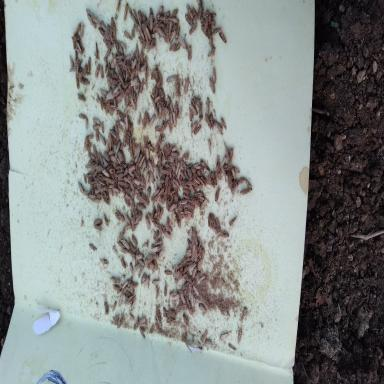pbw: (155, 4, 165, 18), (178, 37, 188, 50), (184, 12, 192, 28), (150, 64, 158, 80), (186, 4, 194, 20), (144, 26, 152, 42), (201, 158, 210, 172), (244, 176, 253, 190), (169, 26, 176, 44), (189, 102, 198, 116), (214, 184, 221, 202), (224, 142, 230, 162), (213, 120, 223, 132), (168, 112, 173, 136), (207, 46, 216, 59), (98, 132, 106, 146), (138, 34, 146, 48), (204, 112, 211, 128), (138, 154, 146, 168), (178, 289, 185, 305), (230, 213, 238, 227), (237, 188, 251, 196), (201, 328, 209, 342), (166, 74, 178, 83), (209, 77, 215, 95), (233, 177, 245, 186), (142, 24, 148, 42), (198, 1, 203, 22), (116, 209, 124, 222), (184, 77, 190, 94), (175, 81, 181, 98), (211, 213, 217, 230), (168, 288, 178, 298), (163, 230, 173, 240), (123, 2, 128, 22), (109, 128, 118, 139), (190, 96, 201, 105), (122, 277, 131, 288), (97, 26, 106, 37), (117, 65, 124, 79), (148, 113, 155, 127), (75, 41, 82, 55), (193, 284, 200, 298), (240, 306, 247, 320), (130, 296, 137, 310), (191, 170, 198, 184), (177, 104, 183, 120), (168, 22, 174, 38), (130, 58, 138, 70), (200, 198, 208, 210), (170, 7, 178, 19), (150, 206, 156, 222), (128, 242, 136, 254), (135, 212, 143, 224), (175, 22, 180, 41), (208, 175, 215, 188), (220, 155, 227, 168), (219, 31, 226, 44), (156, 228, 163, 241), (131, 233, 138, 246), (143, 13, 150, 26), (193, 124, 202, 134), (132, 7, 138, 22), (231, 164, 240, 174), (82, 61, 88, 76), (170, 15, 180, 24), (197, 273, 207, 282), (138, 26, 144, 41), (232, 182, 238, 197), (155, 139, 161, 154), (162, 225, 171, 235), (168, 202, 176, 213), (136, 142, 141, 159), (134, 315, 140, 329), (92, 143, 98, 157), (102, 212, 108, 226), (196, 115, 203, 127), (156, 314, 162, 328), (140, 175, 146, 189), (147, 141, 154, 153), (148, 37, 154, 51), (106, 88, 113, 100), (190, 120, 196, 134), (144, 274, 150, 288), (202, 298, 209, 310), (184, 168, 190, 182), (148, 159, 154, 173), (104, 48, 111, 60), (212, 171, 218, 185), (103, 150, 110, 162), (102, 193, 109, 205), (178, 285, 185, 297), (196, 258, 203, 270), (114, 154, 121, 166), (135, 252, 144, 261), (201, 175, 210, 184), (129, 282, 139, 290), (237, 328, 242, 344), (138, 9, 143, 25), (156, 77, 164, 87), (156, 306, 161, 322), (138, 315, 146, 325), (122, 239, 130, 249), (130, 76, 138, 86), (158, 27, 166, 37), (116, 110, 124, 120), (86, 56, 90, 76), (192, 162, 202, 170), (207, 138, 212, 154), (198, 303, 206, 313), (164, 162, 174, 170), (139, 326, 145, 339), (142, 193, 148, 206), (145, 216, 151, 229), (116, 0, 122, 13), (74, 23, 80, 36), (130, 98, 136, 111), (150, 94, 156, 107), (158, 160, 164, 173), (108, 31, 114, 44), (219, 332, 230, 339), (152, 229, 159, 240), (152, 240, 163, 247), (100, 20, 107, 31), (116, 120, 123, 131), (94, 40, 98, 59), (138, 264, 143, 279), (156, 165, 161, 180), (99, 64, 104, 79), (95, 62, 100, 77), (146, 186, 151, 201), (164, 28, 169, 43), (113, 168, 118, 183), (124, 63, 129, 78), (216, 216, 221, 231), (115, 140, 121, 152), (213, 26, 222, 34), (198, 102, 202, 120), (220, 117, 226, 129), (120, 228, 126, 240), (118, 43, 124, 55), (150, 12, 154, 30), (166, 95, 172, 107), (118, 150, 124, 162), (77, 181, 83, 193), (192, 7, 198, 19), (77, 93, 86, 101), (200, 248, 204, 266), (141, 240, 149, 249), (123, 192, 132, 200), (151, 244, 160, 252), (172, 110, 176, 128), (170, 110, 174, 128), (132, 178, 141, 186), (201, 24, 207, 36), (210, 225, 218, 234), (120, 257, 126, 269), (111, 58, 117, 70), (131, 13, 137, 25), (206, 96, 210, 114), (156, 188, 164, 197), (123, 30, 131, 39), (111, 300, 117, 312), (89, 16, 95, 28), (141, 272, 147, 284), (154, 69, 160, 81), (94, 186, 103, 194), (146, 20, 152, 32), (199, 294, 205, 306), (226, 170, 234, 179), (136, 166, 142, 178), (188, 262, 197, 270), (118, 294, 123, 308), (100, 258, 110, 265), (183, 208, 193, 215), (156, 21, 166, 28), (116, 284, 123, 294), (149, 262, 156, 272), (86, 158, 93, 168), (136, 202, 146, 209), (111, 174, 118, 184), (121, 150, 126, 164), (191, 244, 196, 258), (210, 112, 214, 129), (109, 133, 113, 150), (112, 24, 116, 41), (115, 39, 119, 56), (212, 67, 216, 84), (140, 77, 144, 94), (145, 110, 149, 127), (135, 247, 139, 264), (124, 213, 130, 224), (134, 262, 140, 273), (163, 119, 169, 130), (142, 135, 148, 146), (86, 9, 92, 20), (155, 321, 161, 332), (189, 238, 195, 249), (221, 164, 226, 177), (171, 212, 176, 225), (165, 198, 170, 211), (104, 302, 109, 315), (69, 55, 74, 68), (220, 231, 228, 239), (136, 194, 144, 202), (166, 215, 170, 231), (128, 170, 136, 178), (160, 118, 164, 134), (79, 188, 87, 196), (76, 73, 80, 89), (168, 188, 176, 196), (216, 154, 220, 170), (176, 160, 180, 176), (72, 34, 76, 50), (204, 16, 208, 32), (132, 184, 136, 200), (182, 150, 190, 158), (164, 281, 168, 297), (152, 188, 160, 196), (131, 23, 135, 39), (127, 100, 135, 108), (183, 258, 191, 266), (127, 115, 131, 131), (168, 308, 176, 316), (135, 187, 142, 196), (119, 286, 128, 293), (123, 105, 130, 114), (111, 73, 120, 80), (147, 212, 154, 221), (163, 8, 170, 17), (93, 218, 102, 225), (173, 178, 180, 187), (109, 78, 118, 85), (152, 192, 159, 201), (129, 295, 136, 304), (181, 157, 186, 169), (180, 169, 185, 181), (115, 126, 119, 141), (158, 208, 163, 220), (174, 42, 180, 52), (209, 32, 213, 47), (207, 25, 211, 40), (110, 16, 114, 31), (126, 64, 132, 74), (153, 258, 158, 270), (155, 104, 160, 116), (102, 156, 108, 166), (116, 232, 121, 244), (231, 168, 236, 180), (155, 284, 159, 299), (182, 314, 188, 324), (117, 318, 123, 328), (110, 68, 116, 78), (159, 132, 164, 144), (189, 107, 193, 122), (80, 78, 90, 84), (107, 24, 112, 36), (204, 340, 214, 346), (152, 155, 158, 165), (190, 182, 195, 194), (104, 58, 108, 73), (129, 262, 134, 274), (163, 106, 168, 118), (78, 69, 84, 79), (113, 144, 118, 156), (178, 204, 184, 214), (185, 213, 191, 223), (192, 230, 197, 242), (194, 270, 200, 280), (121, 313, 125, 328), (172, 293, 180, 300), (188, 166, 192, 180), (95, 128, 99, 142), (128, 250, 136, 257), (92, 117, 100, 124), (147, 253, 155, 260), (188, 45, 192, 59), (152, 220, 160, 227), (163, 306, 167, 320), (187, 202, 195, 209), (154, 125, 162, 132), (140, 46, 144, 60), (128, 164, 135, 172), (143, 114, 147, 128), (165, 173, 169, 187), (100, 96, 104, 110), (134, 90, 138, 104), (152, 278, 160, 285), (80, 22, 84, 36), (168, 44, 176, 51), (138, 258, 145, 266), (120, 42, 127, 50), (228, 343, 236, 350), (110, 155, 117, 163), (193, 198, 200, 206), (168, 144, 173, 155), (156, 16, 167, 21), (95, 156, 100, 167), (77, 66, 82, 77), (204, 7, 209, 18), (176, 203, 181, 214), (95, 178, 100, 189), (158, 249, 164, 258), (175, 100, 178, 118), (131, 223, 137, 232), (125, 114, 128, 132), (108, 186, 114, 195), (157, 70, 163, 79), (166, 318, 175, 324), (68, 66, 77, 72), (118, 180, 127, 186), (170, 163, 176, 172), (128, 283, 134, 292), (182, 188, 191, 194), (127, 132, 131, 145), (99, 153, 103, 166), (146, 171, 150, 184), (106, 78, 110, 91), (175, 214, 179, 227), (150, 170, 154, 183), (145, 146, 149, 159), (106, 100, 110, 113), (129, 141, 132, 158), (128, 276, 133, 286), (125, 291, 130, 301), (112, 246, 117, 256), (124, 80, 129, 90), (78, 113, 88, 118), (159, 87, 164, 97), (123, 167, 128, 177), (89, 185, 94, 195), (117, 185, 124, 192), (93, 124, 100, 131), (113, 283, 120, 290), (121, 247, 128, 254), (113, 90, 120, 97), (102, 186, 109, 193), (97, 175, 104, 182), (110, 275, 116, 283), (124, 176, 130, 184), (182, 266, 188, 274), (174, 270, 180, 278), (163, 16, 169, 24), (152, 22, 156, 34), (159, 103, 162, 119), (186, 274, 192, 282), (84, 136, 88, 148), (131, 198, 135, 210), (135, 50, 139, 62), (192, 266, 196, 278), (137, 112, 141, 124), (182, 183, 190, 189), (186, 298, 190, 310), (87, 153, 95, 159), (170, 100, 174, 112), (118, 241, 124, 249), (140, 64, 146, 72), (123, 131, 126, 147), (157, 204, 161, 216), (112, 125, 115, 141), (100, 89, 108, 95), (92, 15, 98, 23), (191, 292, 194, 308), (105, 164, 113, 170), (176, 168, 180, 180), (152, 83, 156, 95), (162, 168, 170, 174), (101, 170, 109, 176), (102, 190, 108, 198), (115, 164, 123, 170), (194, 234, 198, 246), (223, 164, 231, 170), (108, 148, 114, 156), (189, 200, 197, 206), (184, 204, 192, 210), (130, 217, 134, 229), (167, 196, 171, 208), (95, 166, 103, 172), (190, 307, 196, 315), (120, 87, 125, 96), (145, 64, 148, 79), (110, 107, 115, 116), (115, 314, 119, 325), (207, 12, 211, 23), (132, 49, 136, 60), (147, 258, 151, 269), (168, 179, 172, 190), (198, 246, 202, 257), (116, 93, 122, 100), (183, 194, 190, 200), (86, 171, 92, 178), (136, 42, 139, 56), (208, 212, 211, 226), (87, 177, 93, 184), (74, 49, 77, 63), (94, 224, 101, 230), (76, 60, 79, 74), (195, 297, 202, 303), (171, 151, 178, 157), (154, 178, 157, 192), (113, 186, 120, 192), (114, 212, 120, 219), (210, 19, 216, 26), (124, 187, 131, 193), (210, 12, 217, 18), (94, 197, 100, 204), (125, 223, 132, 229), (122, 58, 125, 72), (152, 211, 158, 218), (120, 164, 127, 170), (116, 168, 123, 174), (130, 180, 136, 187), (144, 257, 150, 264), (160, 98, 167, 104), (186, 163, 193, 169), (194, 178, 200, 185), (96, 193, 102, 200), (152, 20, 158, 27), (128, 160, 134, 167), (132, 210, 136, 220), (89, 194, 97, 199), (80, 42, 84, 52), (129, 312, 134, 320), (171, 170, 176, 178), (160, 146, 164, 156), (187, 237, 191, 247), (98, 181, 106, 186), (89, 243, 94, 251), (166, 142, 170, 152), (106, 143, 110, 153), (113, 86, 118, 94), (103, 38, 108, 46), (83, 174, 87, 184), (93, 169, 98, 177), (164, 270, 172, 275), (134, 154, 138, 164), (106, 178, 114, 183), (72, 36, 82, 40), (170, 194, 174, 204), (116, 55, 124, 60), (125, 54, 130, 62), (155, 78, 159, 88), (181, 256, 186, 264), (87, 14, 92, 22), (182, 181, 192, 185), (130, 123, 133, 136), (91, 244, 97, 250), (138, 184, 144, 190), (149, 7, 153, 16), (160, 100, 164, 109), (154, 252, 158, 261), (145, 54, 148, 66), (171, 146, 177, 152), (132, 138, 135, 150), (154, 96, 160, 102), (156, 195, 160, 204), (112, 188, 116, 197), (129, 52, 133, 61), (90, 180, 96, 186), (121, 75, 124, 87), (127, 174, 133, 180), (118, 173, 124, 179), (180, 273, 186, 279), (179, 211, 185, 217), (157, 244, 163, 250), (86, 147, 91, 154), (177, 262, 182, 269), (197, 170, 202, 177), (123, 69, 126, 80), (198, 240, 201, 251), (85, 117, 88, 128), (132, 255, 135, 266), (179, 200, 187, 204), (86, 134, 94, 138), (106, 69, 110, 77), (138, 55, 140, 71), (130, 72, 134, 80), (163, 194, 167, 202), (110, 104, 118, 108), (126, 291, 132, 296), (96, 98, 101, 104), (118, 61, 124, 66), (186, 249, 191, 255), (145, 134, 148, 144), (131, 86, 134, 96), (103, 99, 106, 109), (177, 198, 180, 208), (155, 88, 158, 98), (189, 286, 191, 300), (88, 140, 90, 154), (109, 184, 116, 188), (197, 192, 204, 196), (137, 246, 140, 255), (191, 225, 193, 238), (148, 277, 150, 290), (96, 92, 99, 100), (86, 142, 92, 146), (102, 121, 104, 133), (114, 97, 116, 109), (180, 304, 186, 308), (98, 173, 104, 177), (109, 169, 113, 174), (131, 122, 133, 132), (127, 95, 129, 104), (109, 61, 111, 70), (132, 288, 134, 296), (125, 72, 126, 82)
